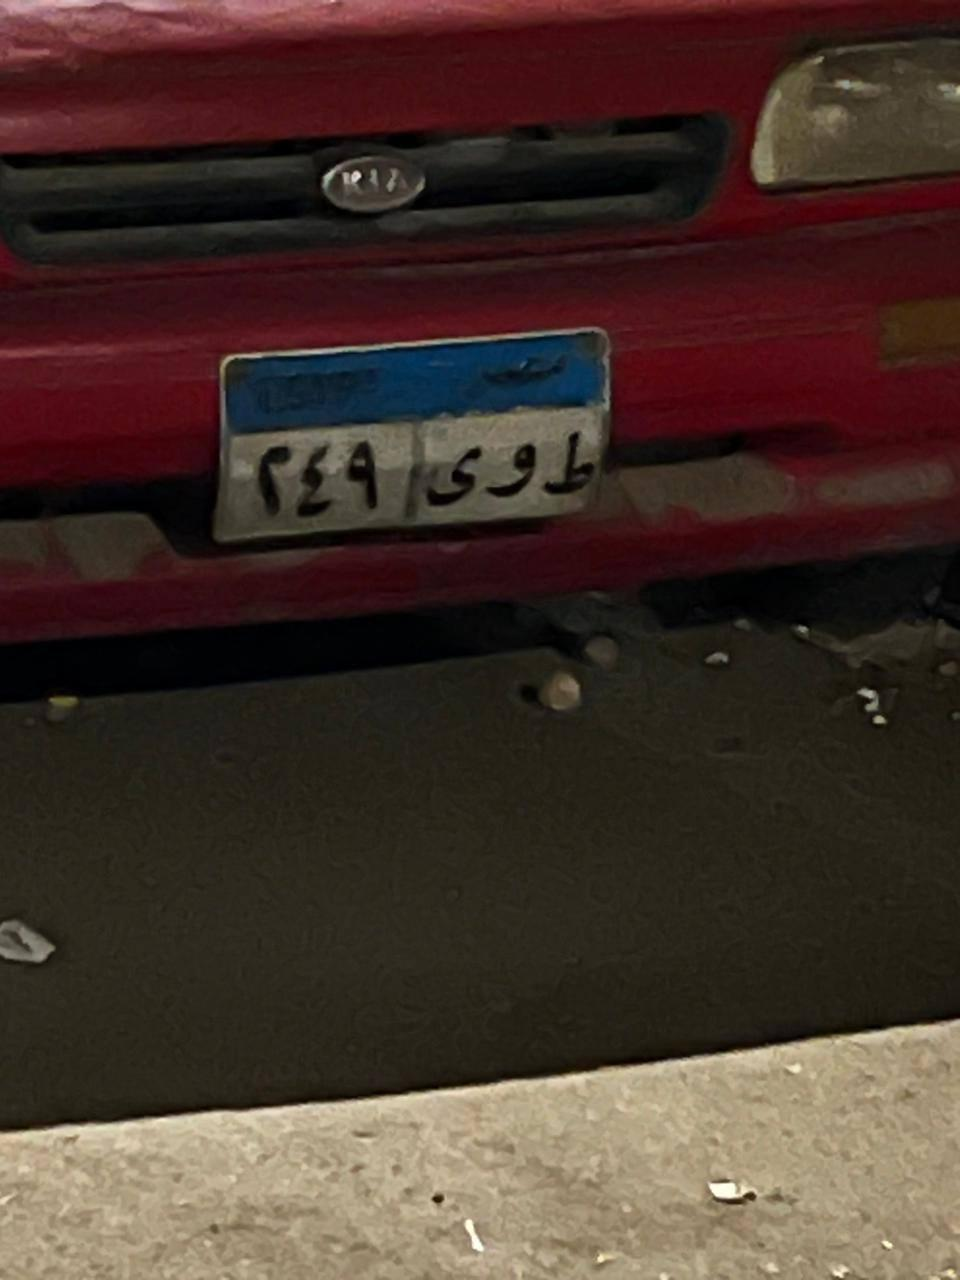2: (253, 436, 293, 522)
4: (292, 428, 345, 526)
9: (336, 432, 386, 514)
License Plate: (208, 324, 615, 548)
Taa: (534, 425, 600, 506)
Wow: (487, 442, 547, 504)
Yeeh: (418, 442, 489, 507)
